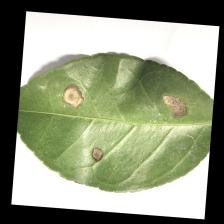canker: (55, 78, 195, 166)
